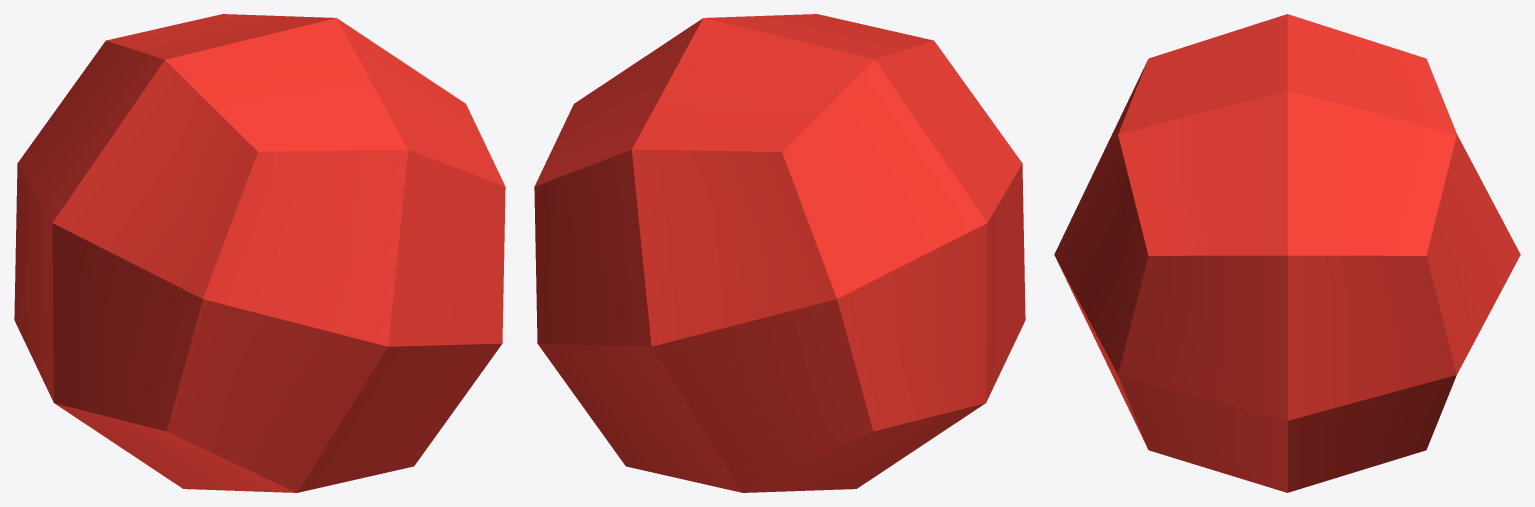
Rendered from toy.fbx.
3 views of the same model, side by side, from view 1: azimuth 30°, elevation 25°; view 2: azimuth 150°, elevation 25°; view 3: azimuth 270°, elevation 25° (orthographic). The views are drawn at different scales.
Parts seen in each view (by area): view 1: toy; view 2: toy; view 3: toy.
Part boxes in pixels (x1,y1,x2,y2): toy: (14,14,505,492); toy: (534,14,1025,492); toy: (1054,14,1520,492).
Bounding box in the file's own units: 11.23 × 11.22 × 11.97.
